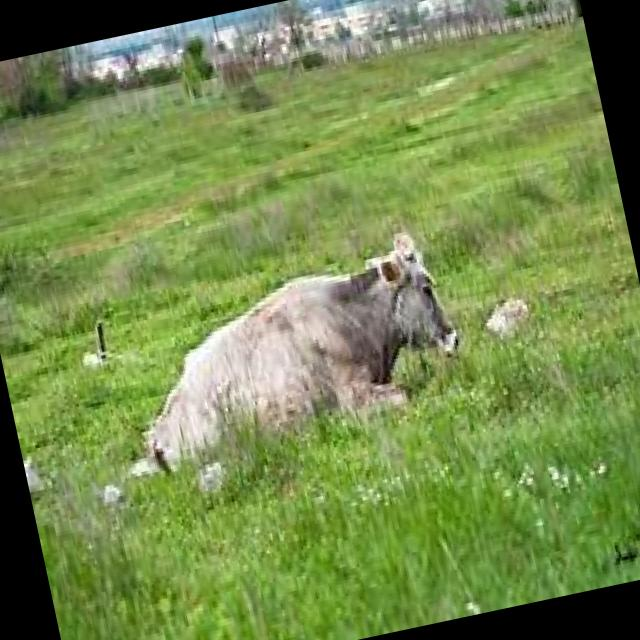animal: (70, 198, 512, 507)
